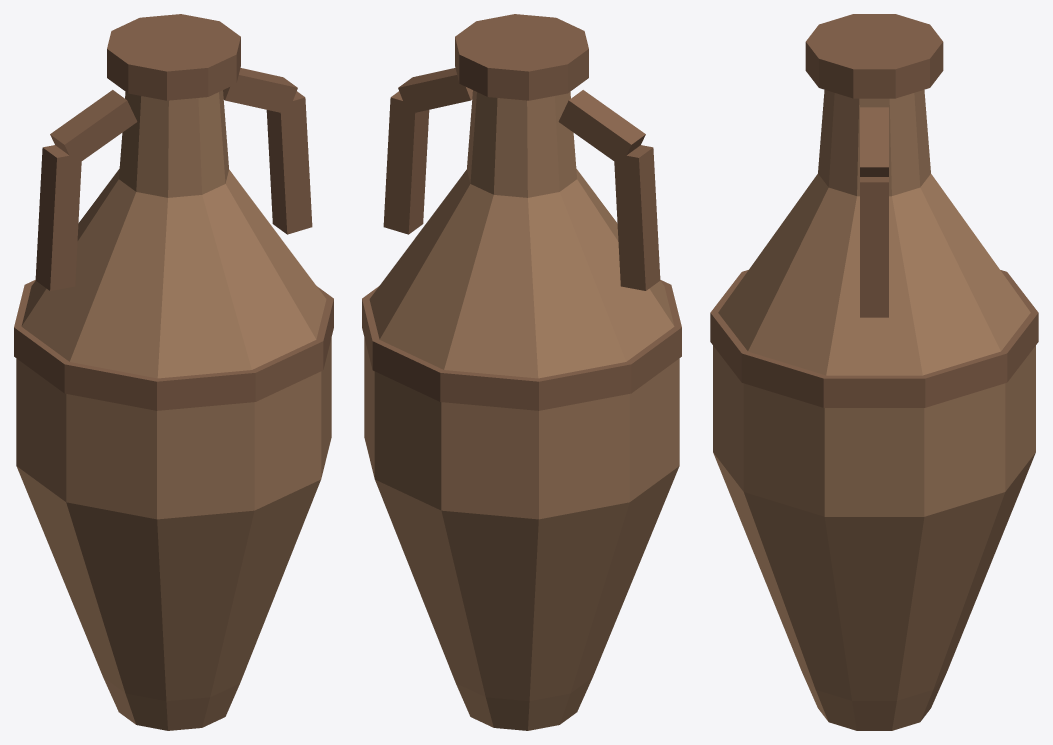
File: amphora.glb
3 views of the same model, side by side, from view 1: azimuth 30°, elevation 25°; view 2: azimuth 150°, elevation 25°; view 3: azimuth 270°, elevation 25° (orthographic).
Visible parts, largest first — view 1: Amphora; view 2: Amphora; view 3: Amphora.
Part boxes in pixels (x1,y1,x2,y2): Amphora: [14, 14, 333, 730]; Amphora: [362, 14, 681, 730]; Amphora: [710, 14, 1038, 730].
Size of the model in its own units: 0.3861 by 0.91 by 0.406.
